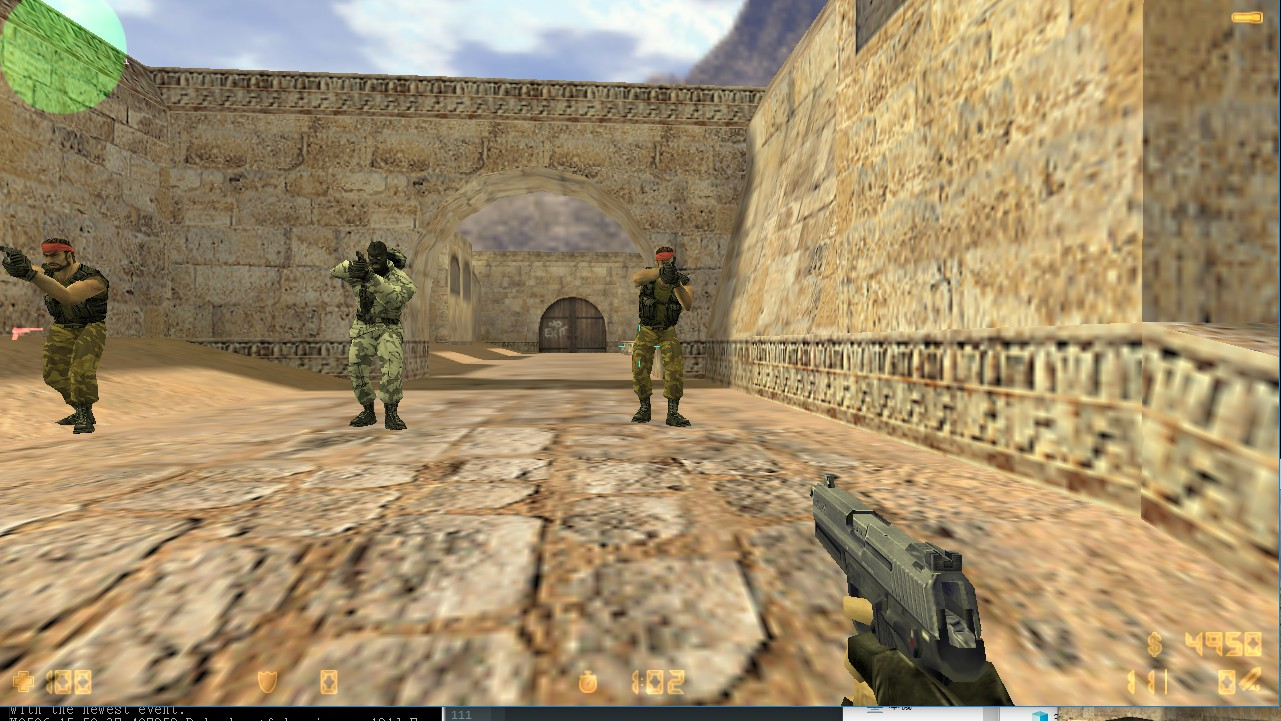person: (1, 236, 129, 442), (312, 226, 420, 435), (621, 239, 714, 439)
